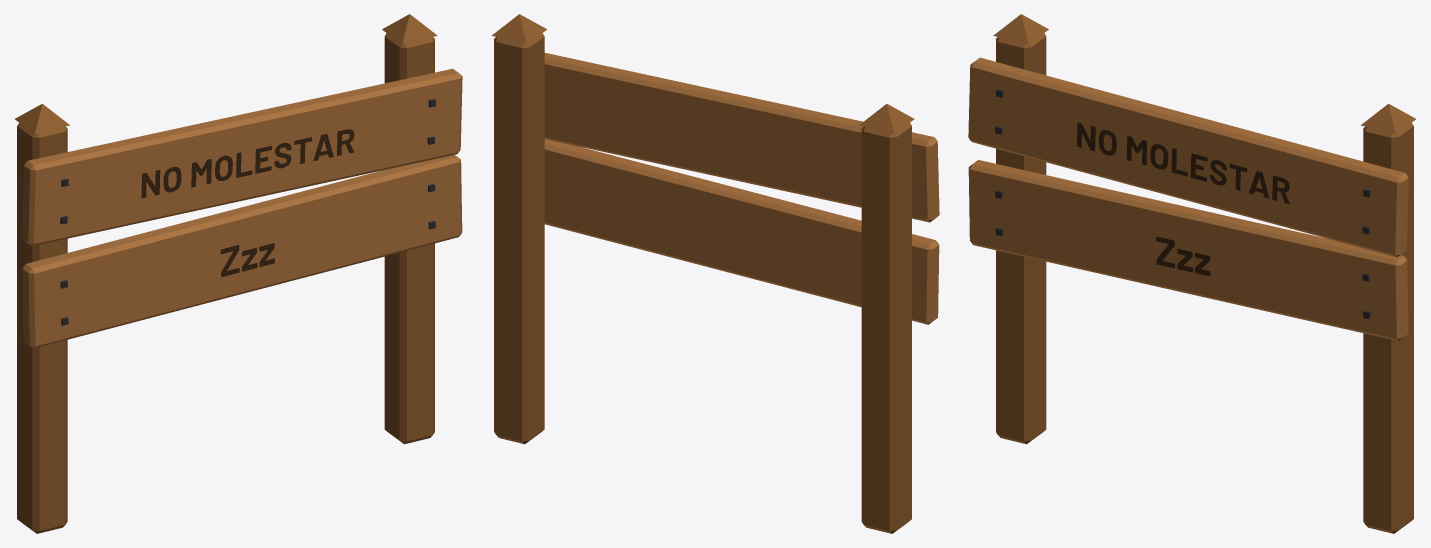
File: Prop_SignCarvedBoard.fbx
The picture shows the model from 3 angles, left to right: view 1: azimuth 30°, elevation 25°; view 2: azimuth 150°, elevation 25°; view 3: azimuth 330°, elevation 25°; orthographic projection.
Parts seen in each view (by area): view 1: Prop_SignCarvedBoard; view 2: Prop_SignCarvedBoard; view 3: Prop_SignCarvedBoard.
Boxes of the visible parts, box(x1,y1,x2,y2) form: Prop_SignCarvedBoard: box(15, 14, 462, 533); Prop_SignCarvedBoard: box(491, 14, 939, 533); Prop_SignCarvedBoard: box(968, 14, 1415, 533).
Bounding box in the file's own units: 1.47 × 1.36 × 0.193.
